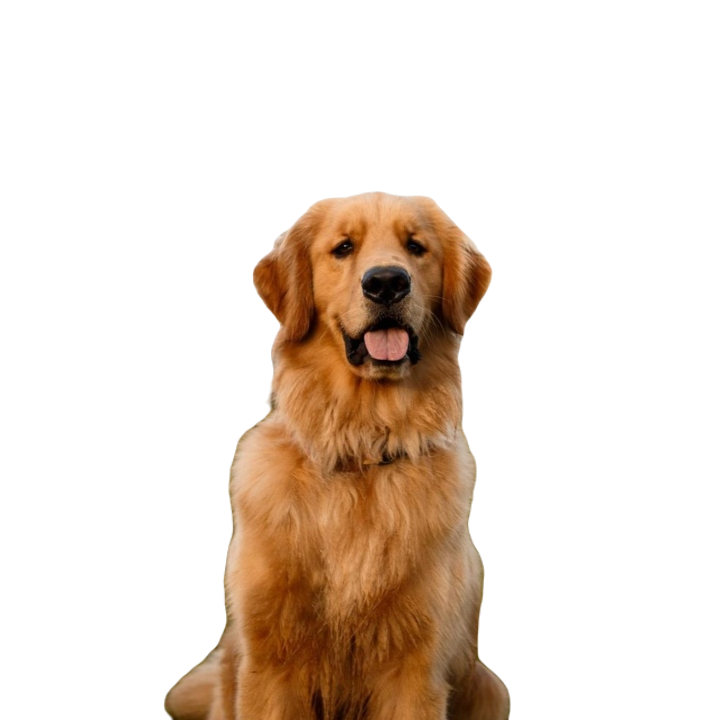Dog: (164, 191, 510, 719)
